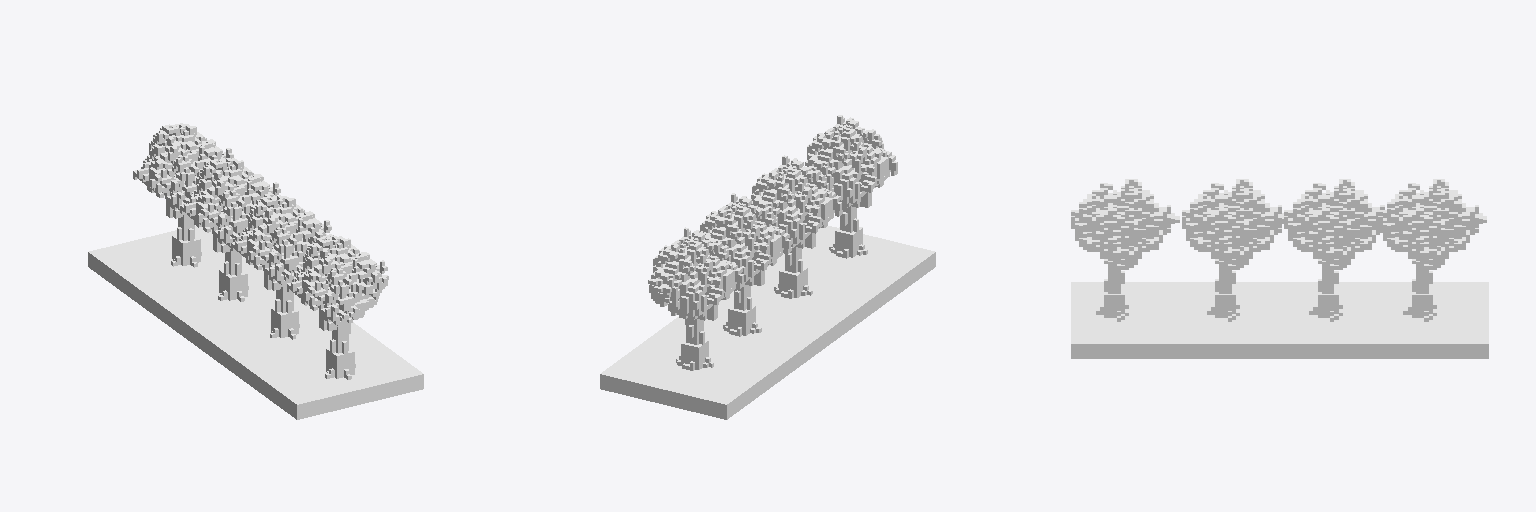
Rendered from map_v1-0.obj.
3 renders of one model, left to right at view 1: azimuth 30°, elevation 25°; view 2: azimuth 150°, elevation 25°; view 3: azimuth 270°, elevation 25°, orthographic.
Visible parts, largest first — view 1: object 1; view 2: object 1; view 3: object 1.
Boxes of the visible parts, x1=… form: object 1: x1=88, y1=123, x2=423, y2=419; object 1: x1=600, y1=115, x2=935, y2=419; object 1: x1=1071, y1=179, x2=1488, y2=358.
Size of the model in its own units: 7 by 7.6 by 20.